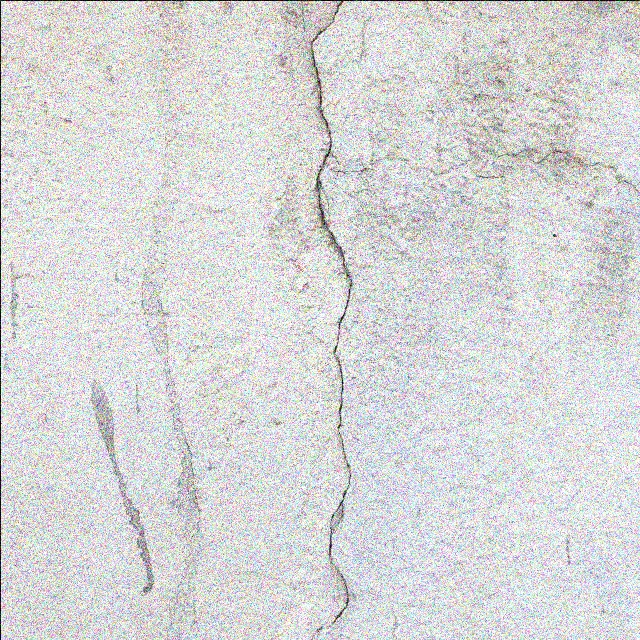SurfaceCrack: (63, 1, 231, 640), (264, 0, 400, 640)
